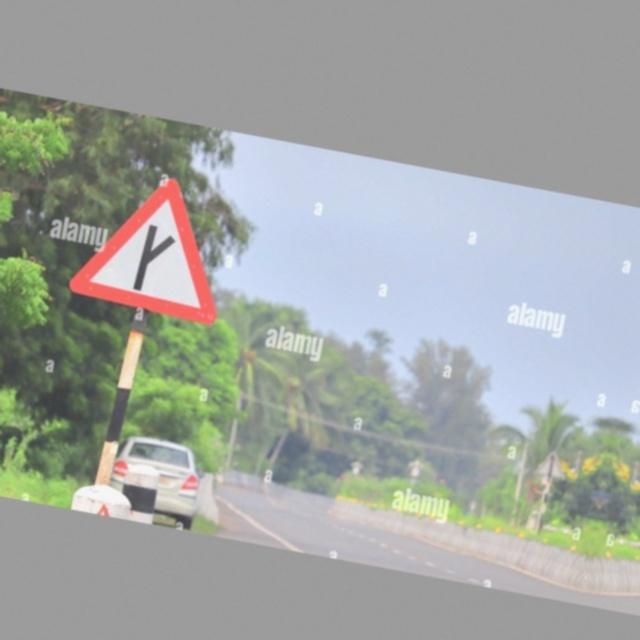Y_Intersection: (69, 159, 236, 327)
